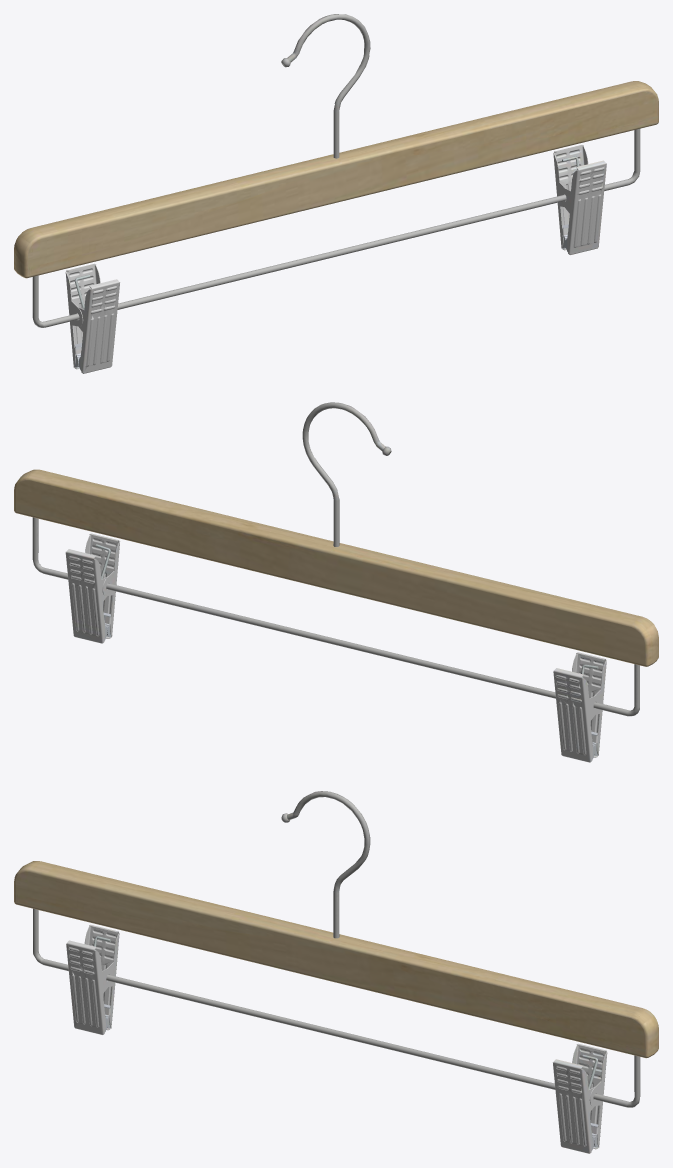
File: bumerang_wieszak_na_spodnice_40432479.glb
The picture shows the model from 3 angles, top to bottom: view 1: azimuth 30°, elevation 25°; view 2: azimuth 150°, elevation 25°; view 3: azimuth 330°, elevation 25°; orthographic projection.
Parts seen in each view (by area): view 1: bumerang_wieszak_na_spodnice_40432479; view 2: bumerang_wieszak_na_spodnice_40432479; view 3: bumerang_wieszak_na_spodnice_40432479.
Part boxes in pixels (x1,y1,x2,y2): bumerang_wieszak_na_spodnice_40432479: (14,14,658,373); bumerang_wieszak_na_spodnice_40432479: (14,402,658,762); bumerang_wieszak_na_spodnice_40432479: (14,791,658,1153).
Bounding box in the file's own units: 0.3602 × 0.1591 × 0.0248.
Materials: 1 (1 with a texture image).
